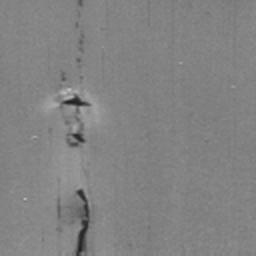Slag inclusion: (76, 189, 89, 256), (61, 94, 91, 122), (67, 133, 85, 148)
